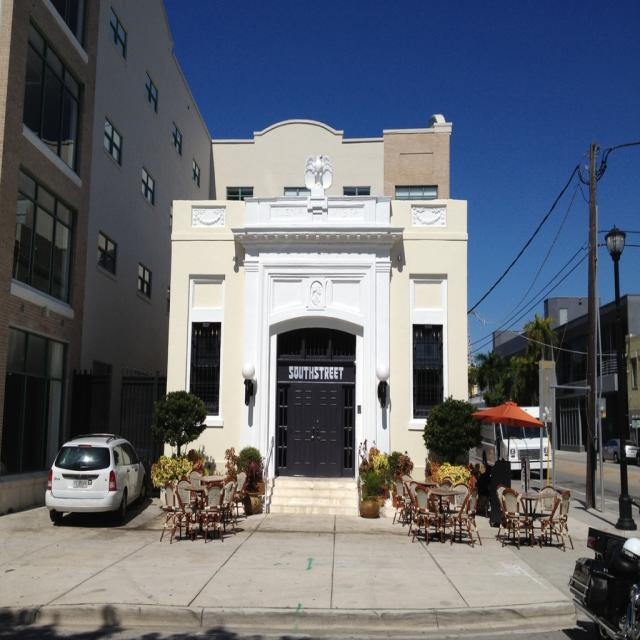car: (45, 432, 147, 526)
